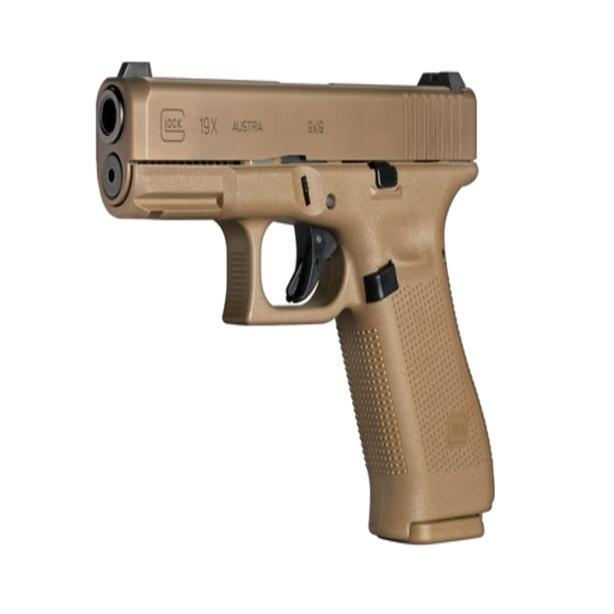Firearm: (94, 42, 531, 555)
